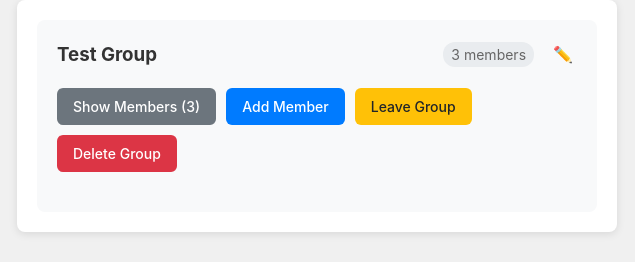
Test: GroupManager › shows edit group name form when edit button is clicked
The width and height of the screenshot is (635, 262).
Click the button titled "Edit group name" at (563, 54), box [549,40,577,68]
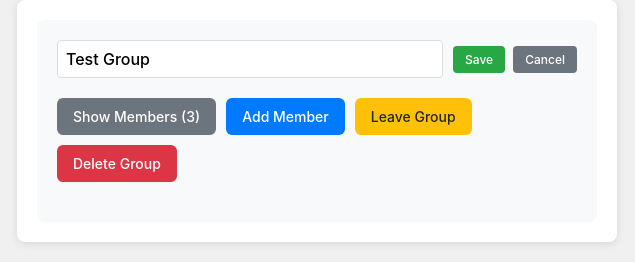
expect the field showing "Test Group" is shown: met, box [57,40,443,78]
expect the button "Save" is shown: met, box [453,46,505,72]
expect the button "Cancel" is shown: met, box [513,46,577,72]
